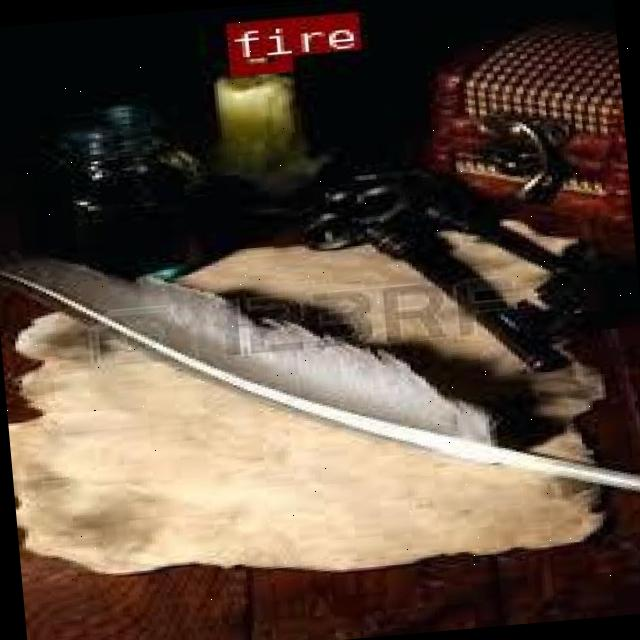fire: (225, 17, 289, 74)
